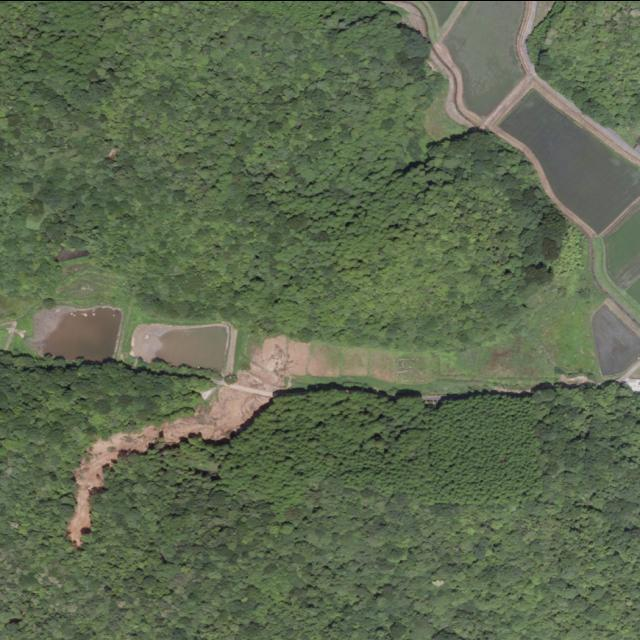landslide: (68, 336, 290, 546)
